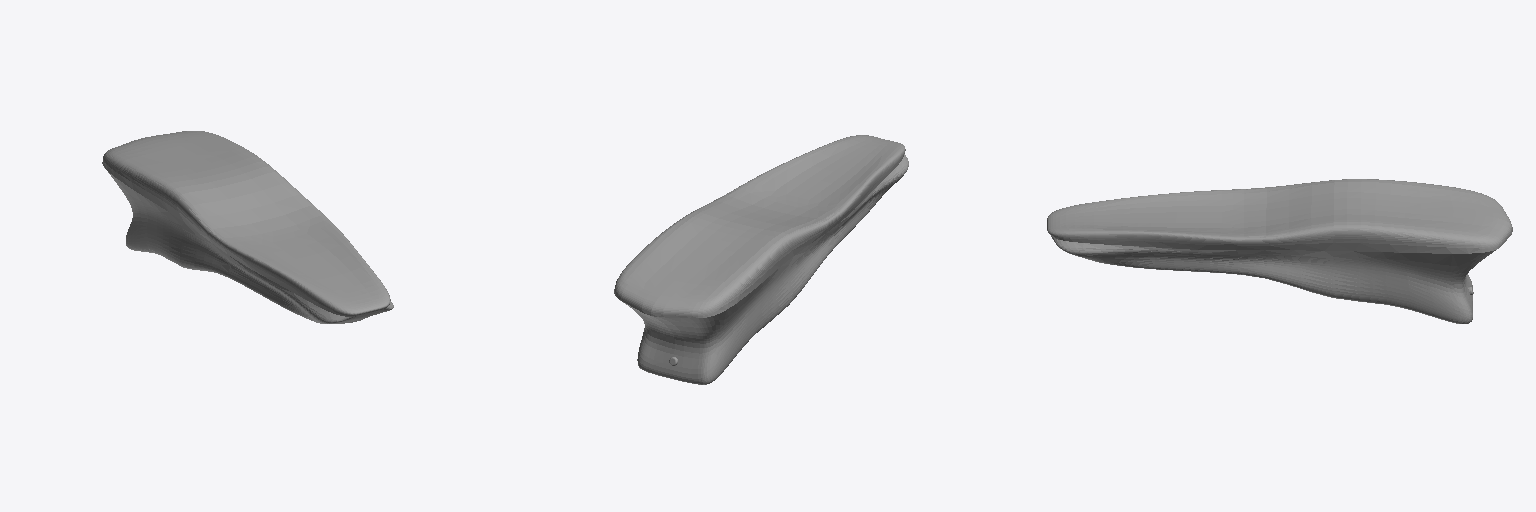
The model's file is vespa_sella.obj.
The picture shows the model from 3 angles: view 1: azimuth 30°, elevation 25°; view 2: azimuth 150°, elevation 25°; view 3: azimuth 270°, elevation 25°; orthographic projection.
Visible parts, largest first — view 1: Body48.003; view 2: Body48.003; view 3: Body48.003.
Boxes of the visible parts, <box> form: Body48.003: <box>102,131,393,323</box>; Body48.003: <box>614,135,908,384</box>; Body48.003: <box>1047,179,1512,323</box>.
Bounding box in the file's own units: 6.3 × 5.89 × 22.94.